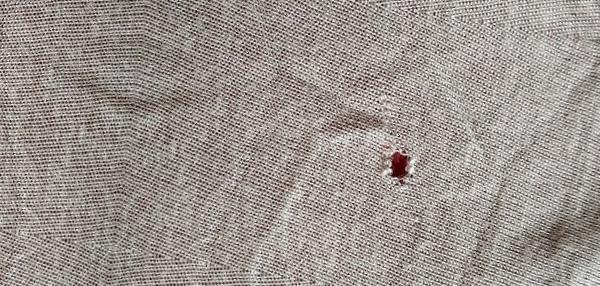hole: (384, 145, 420, 190)
